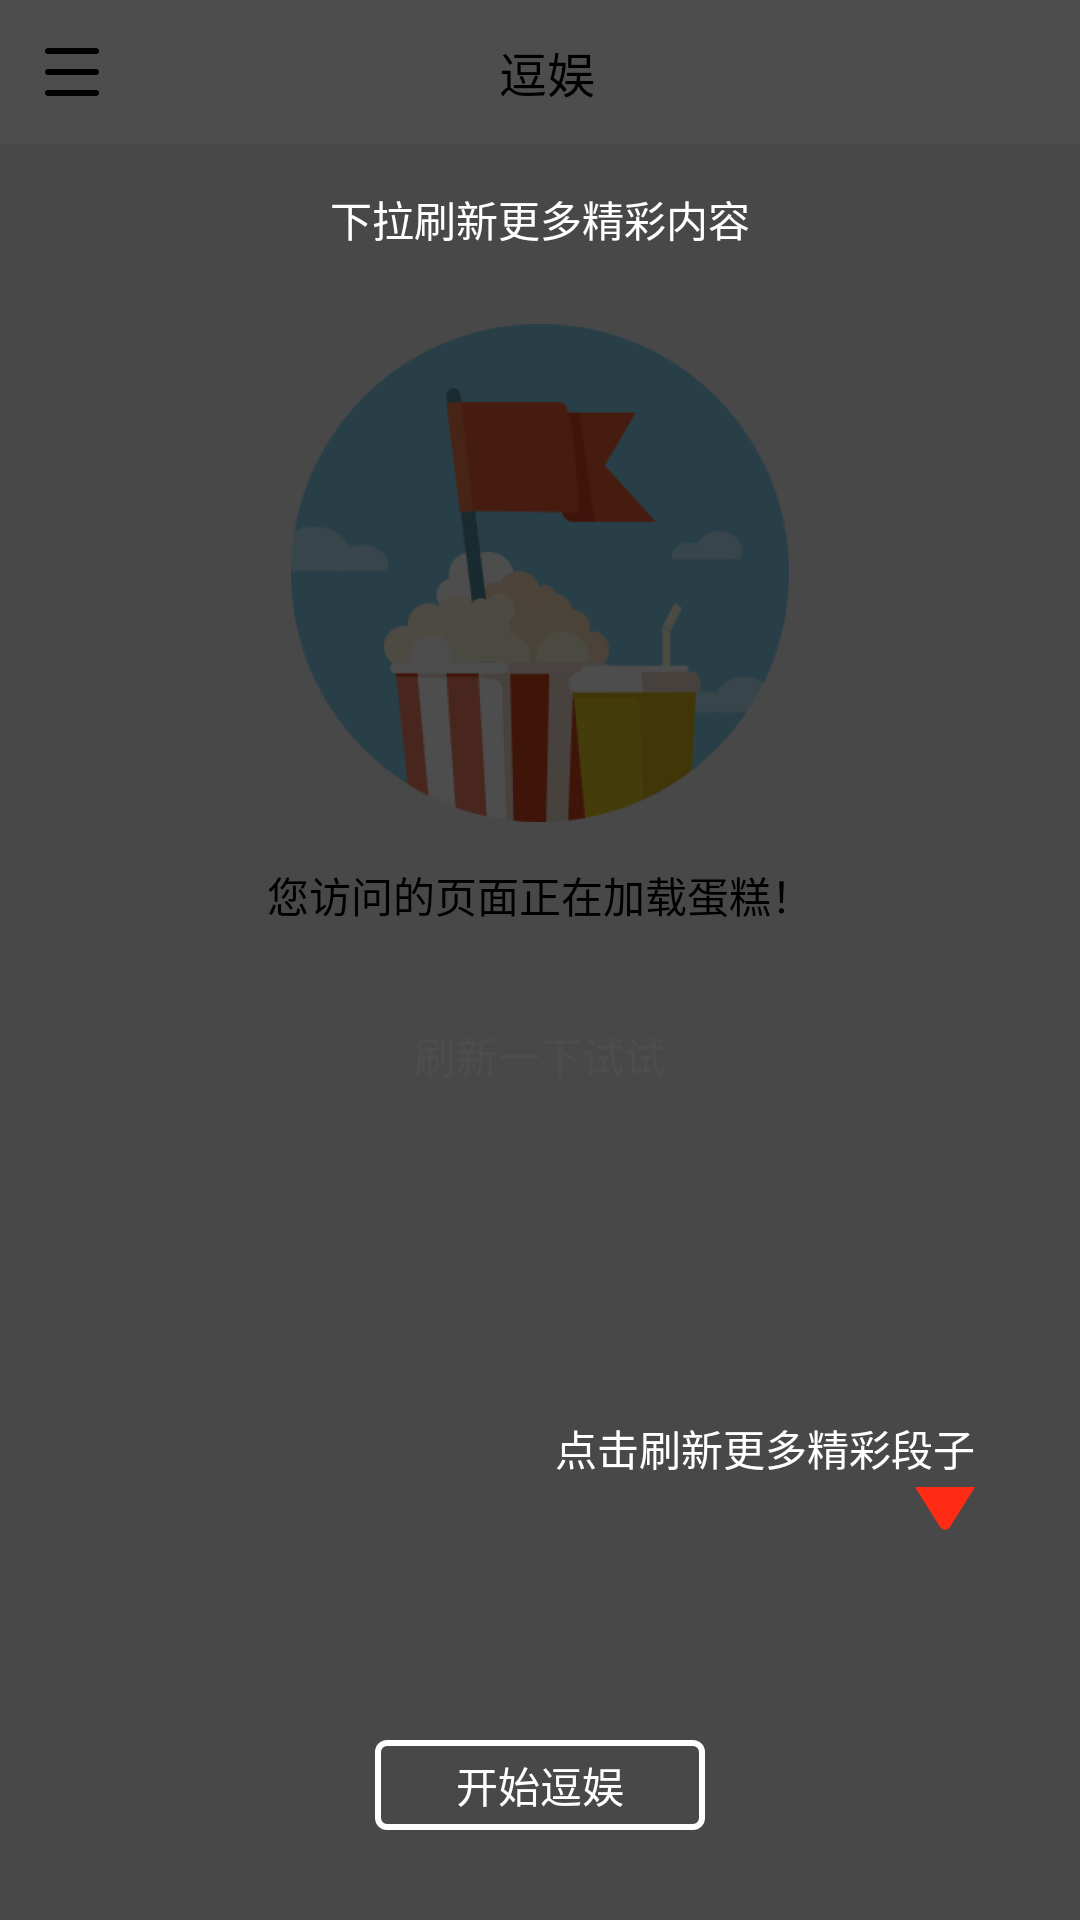

Icon bounding boxes for this 1080 x 1920 phone screenshot, format (x1, y1, x2, y2):
little triangle: (915, 1487, 975, 1530)
title bar menu: (45, 48, 99, 96)
